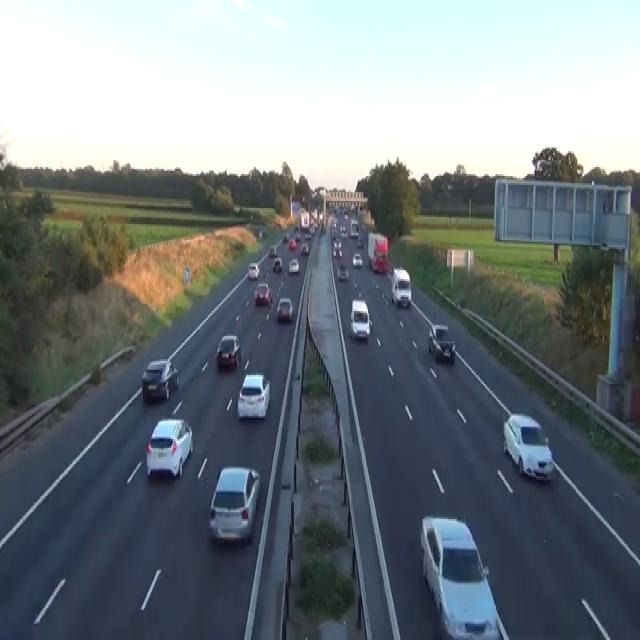Car: (280, 478, 367, 638), (419, 514, 506, 638), (208, 466, 260, 542), (503, 412, 553, 480), (145, 418, 193, 478), (141, 357, 179, 402), (236, 372, 270, 419), (428, 323, 456, 362), (349, 298, 372, 339), (216, 332, 240, 368), (390, 266, 411, 306), (434, 340, 455, 362), (253, 282, 272, 306), (276, 297, 293, 322), (373, 256, 390, 274), (247, 261, 259, 279), (337, 263, 349, 281), (333, 238, 343, 258), (288, 258, 299, 274), (352, 250, 362, 266), (272, 256, 282, 272), (300, 242, 308, 254), (339, 224, 347, 236), (268, 245, 276, 256), (288, 238, 296, 249), (334, 238, 342, 249), (357, 237, 365, 247), (350, 218, 358, 228), (282, 233, 289, 243), (294, 231, 300, 242), (309, 222, 315, 233), (337, 247, 343, 258), (304, 231, 311, 238), (294, 224, 300, 231), (258, 230, 262, 238), (331, 230, 335, 238)
Truck: (367, 231, 389, 272), (300, 210, 309, 228)
